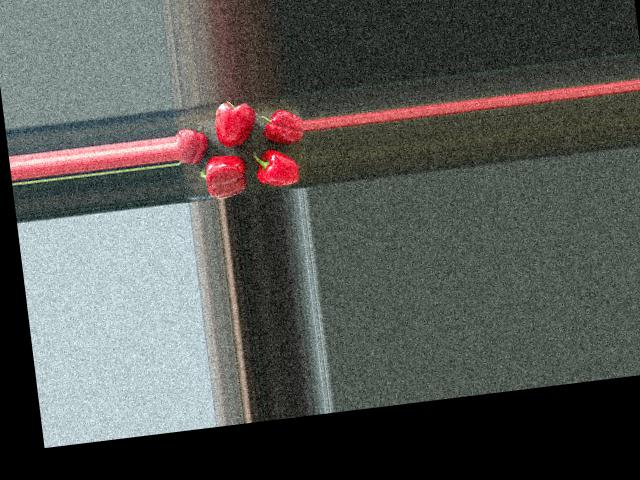bell_pepper: (174, 119, 211, 167)
